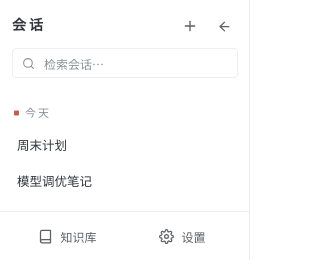
Test: SessionSidebar 会话搜索 › 标题过滤模式下输入关键词后出现全文搜索入口
In the field with class "search-input": (135, 63) 42,54 -> 228,72, type "量子"
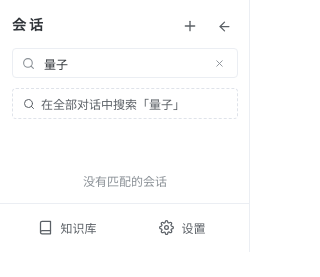
Expected: the button with class "fulltext-entry" shows "量子", 12,88 -> 238,119
